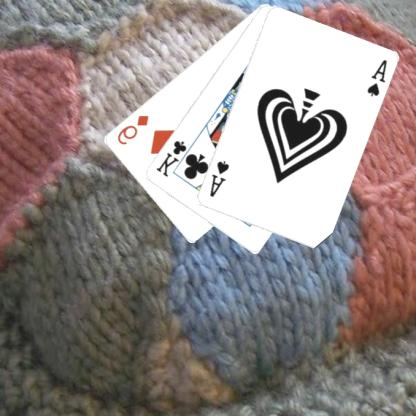6D: (116, 112, 152, 146)
AS: (366, 56, 390, 99), (208, 158, 232, 198)
KC: (155, 138, 197, 178)
